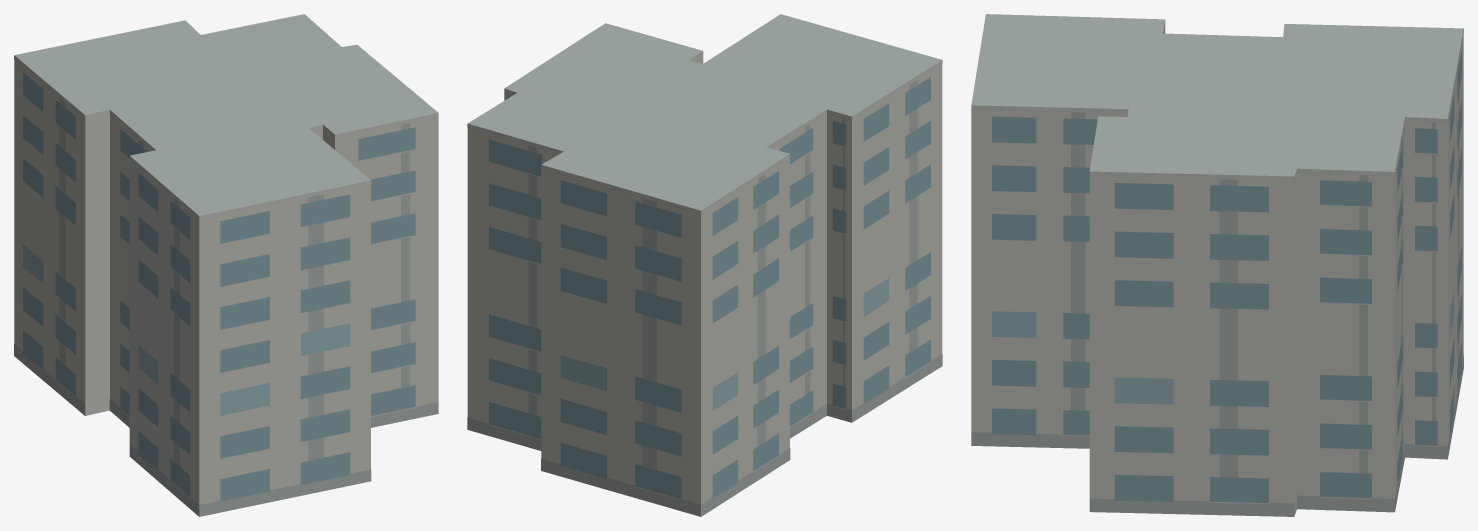
File: survey-upis-32970968.glb
The picture shows the model from 3 angles, left to right: view 1: azimuth 30°, elevation 25°; view 2: azimuth 150°, elevation 25°; view 3: azimuth 270°, elevation 25°; orthographic projection. The views are drawn at different scales.
Visible parts, largest first — view 1: survey-upis-32970968.tmp; view 2: survey-upis-32970968.tmp; view 3: survey-upis-32970968.tmp.
Boxes of the visible parts, <box> form: survey-upis-32970968.tmp: <box>14,14,438,516</box>; survey-upis-32970968.tmp: <box>467,14,942,516</box>; survey-upis-32970968.tmp: <box>971,14,1463,516</box>.
Bounding box in the file's own units: 18.84 × 18.4 × 24.13.
